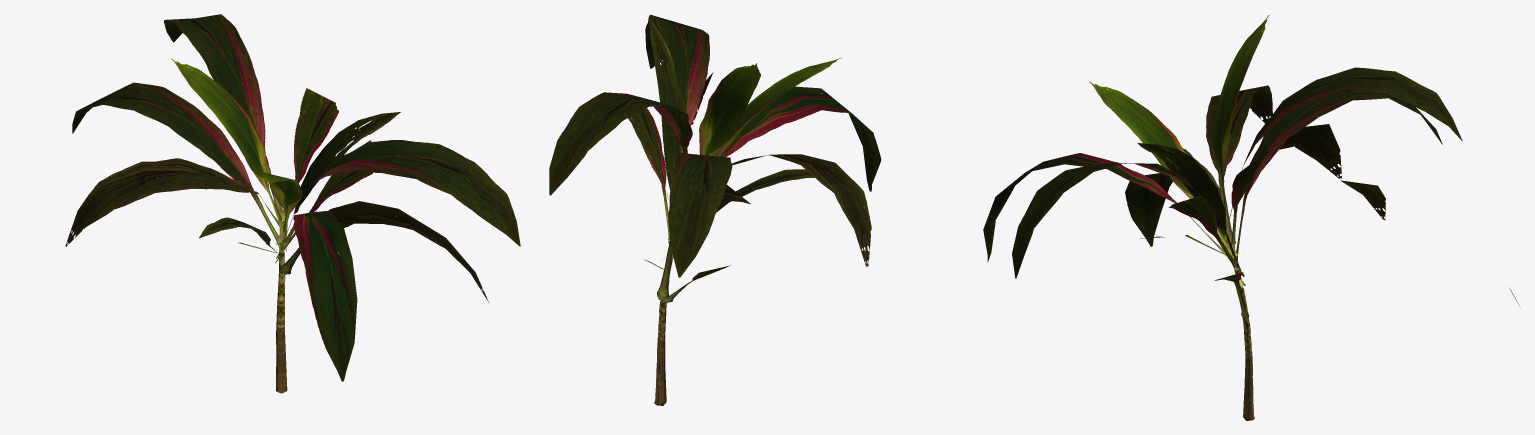
Rendered from Q_Plant_Cordyline_3.fbx.
3 renders of one model, left to right at view 1: azimuth 30°, elevation 25°; view 2: azimuth 150°, elevation 25°; view 3: azimuth 270°, elevation 25°, orthographic. The views are drawn at different scales.
Parts seen in each view (by area): view 1: _31d5_Var3_LOD2; view 2: _31d5_Var3_LOD2; view 3: _31d5_Var3_LOD2.
Boxes of the visible parts, box(x1,y1,x2,y2) form: _31d5_Var3_LOD2: box(65, 14, 520, 393); _31d5_Var3_LOD2: box(549, 14, 881, 405); _31d5_Var3_LOD2: box(983, 15, 1520, 420).
Bounding box in the file's own units: 25.39 × 24.3 × 33.32.
Materials: 1 (1 with a texture image).
